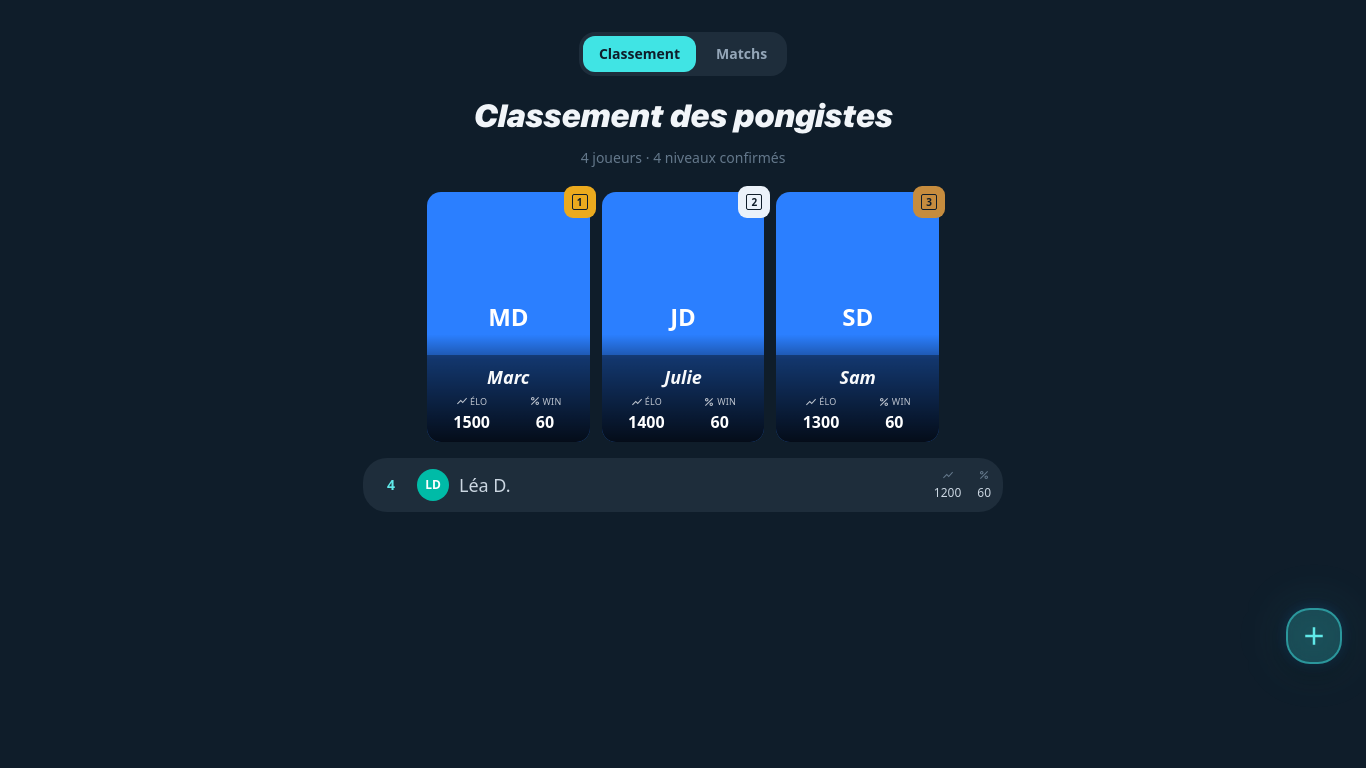
PingpongPage › the detail sheet › drives one sheet from both surfaces
Click the button with test id "pingpong-row". click: (433, 485)
box: [363,458,1003,512]
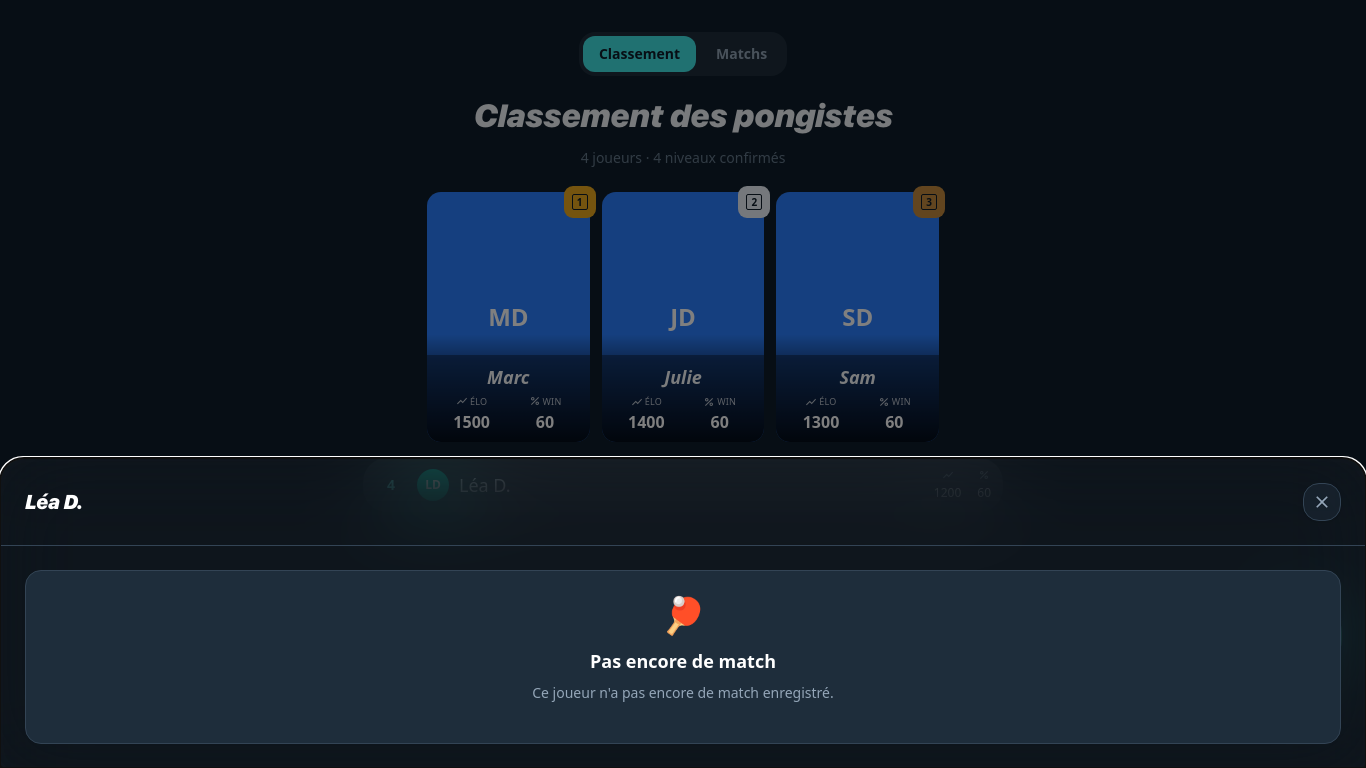
Result: the dialog shows "Léa" at [25,490,83,514]
Press Escape
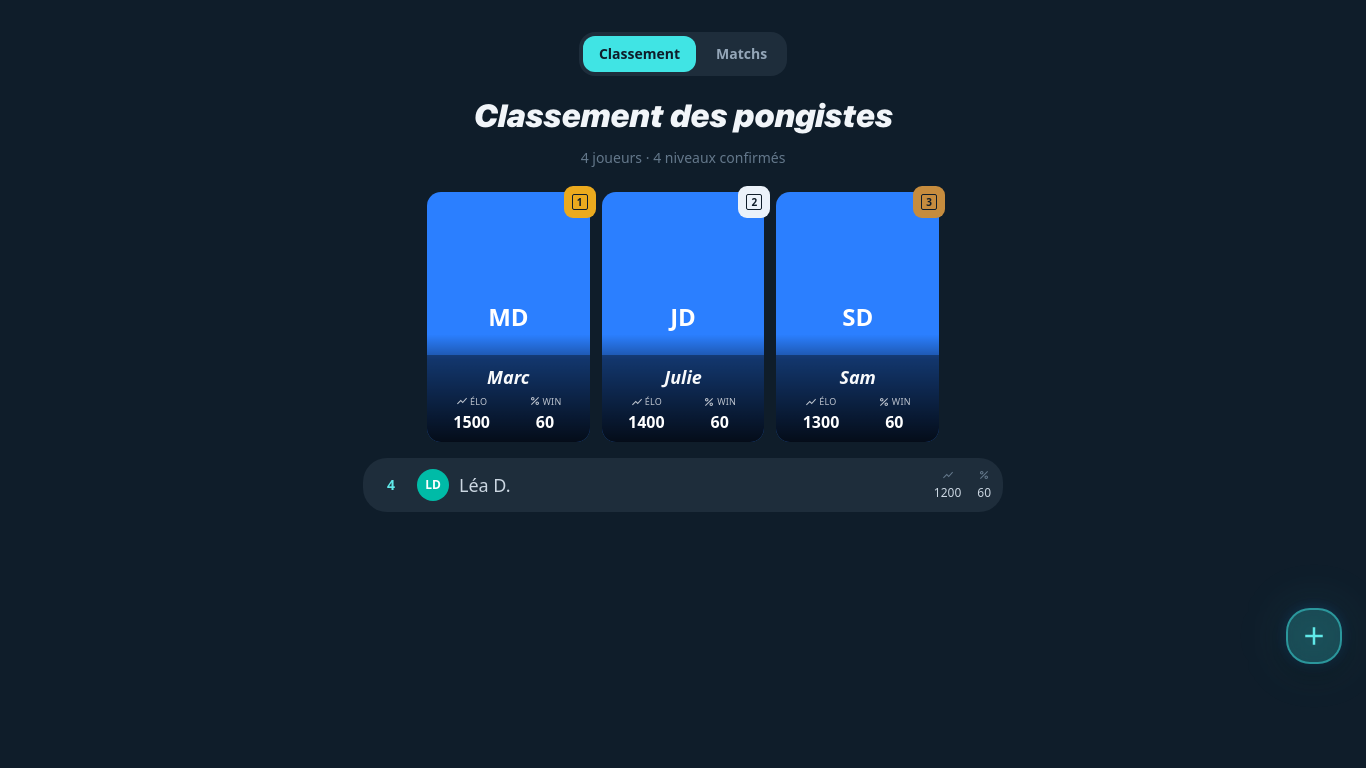
Result: the dialog is gone
Click the 2nd button with test id "pingpong-podium-card". click: (683, 317)
box: [602,192,764,442]
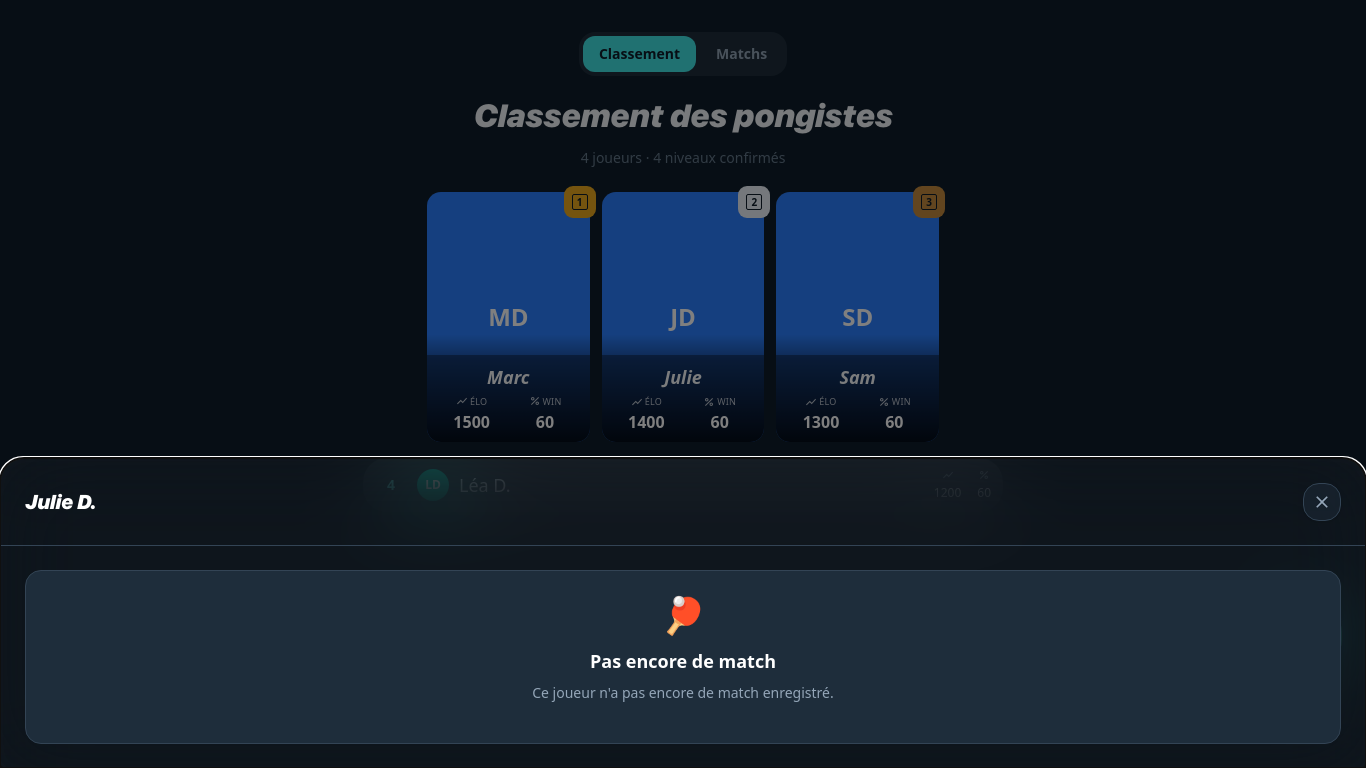
Result: the number of dialogs is 1 at [0,458,1365,767]
Result: the dialog shows "Julie" at [25,490,96,514]
